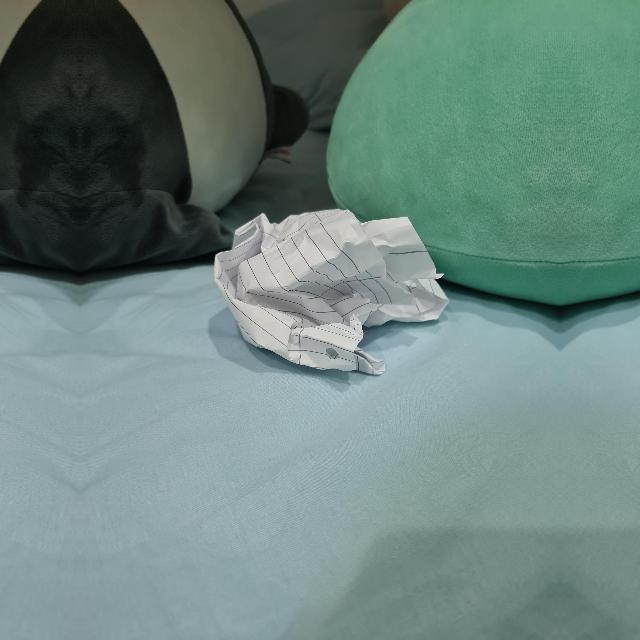paper: (208, 198, 444, 378)
